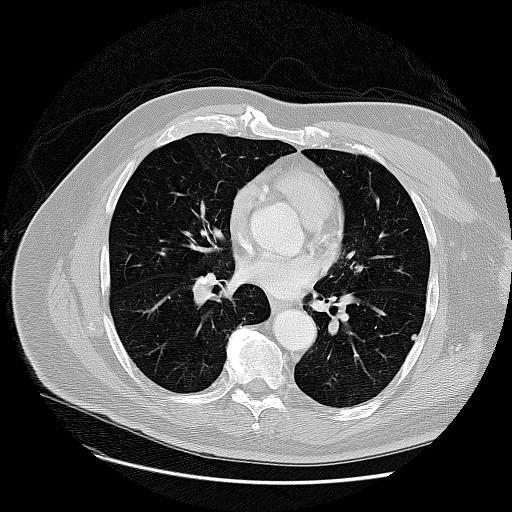nodule: (408, 332, 419, 343)
